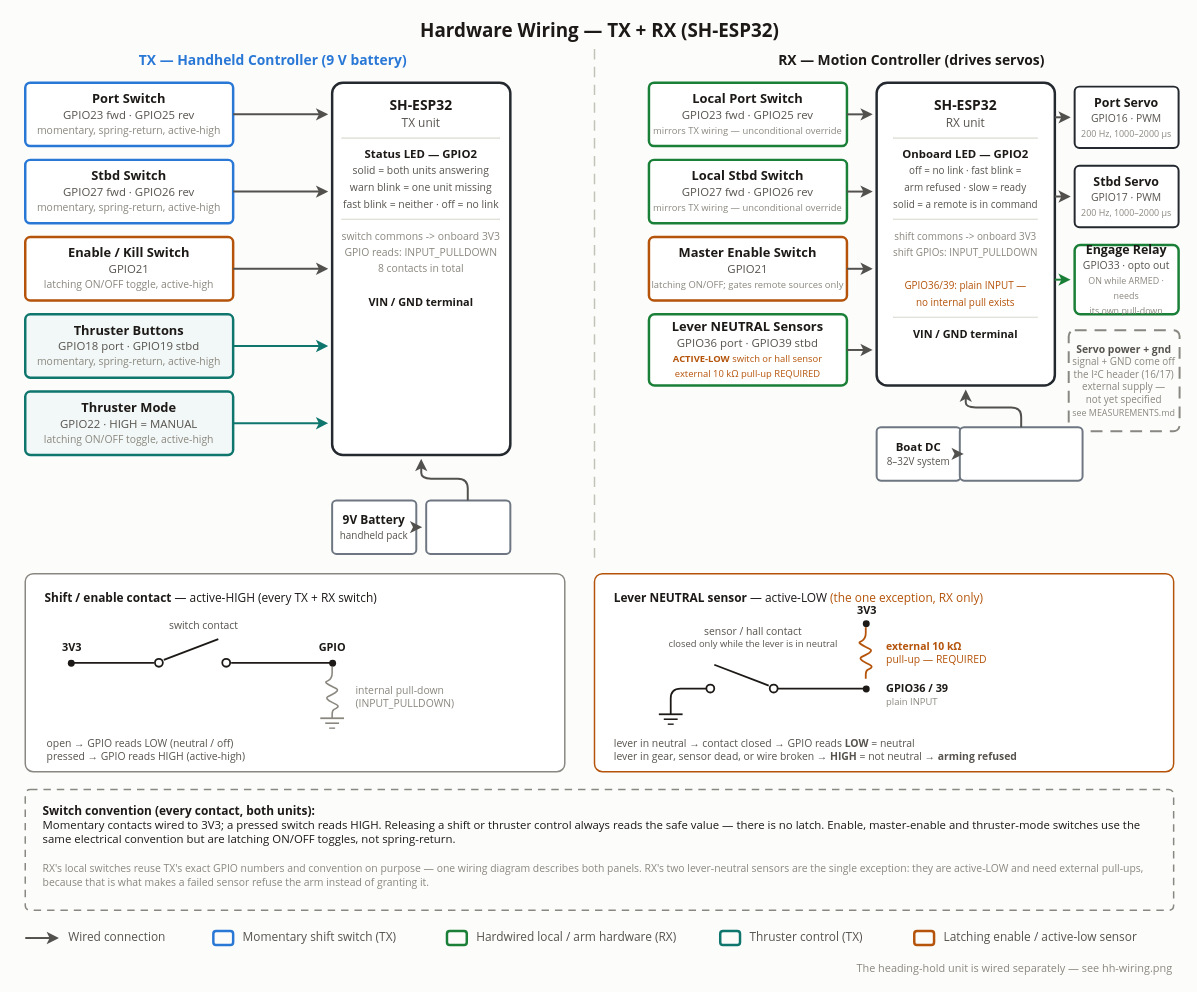
The diagram is 1197 pixels wide and 992 high, and some of its shapes have lost their labels. The shapes that lost their labels are listed below. From the top down, each one's centre as x and y in pixels, then its label:
the point at 1020,453: Terminal Block fused, reverse-polarity protected, TVS (on-board)
the point at 468,526: ON/OFF Switch user's own, not firmware
